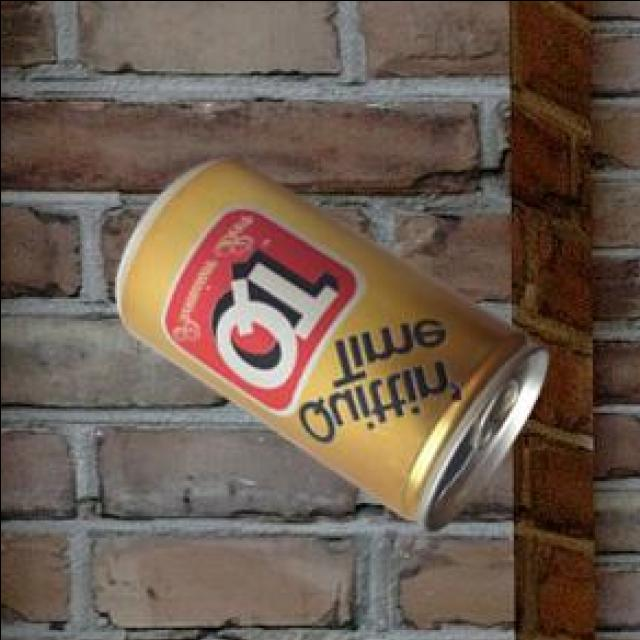logam: (119, 155, 551, 527)
